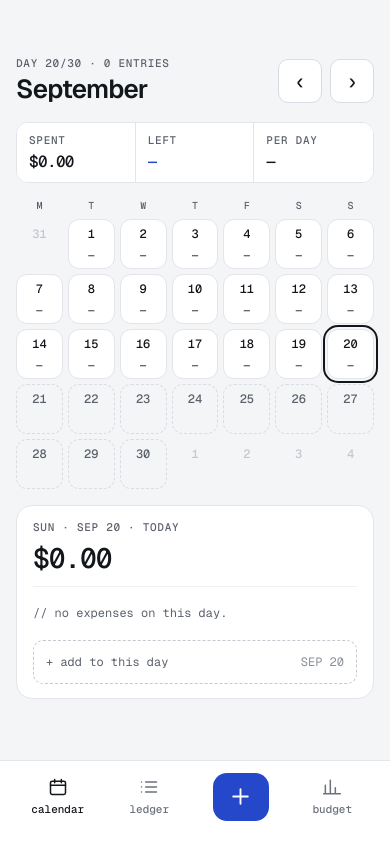
Test: persists the intended date for 12 lunch #food from a different selected day
Click the button named "September 1, 2026, $0.00" at x=91, y=244, box [68,219,115,269]
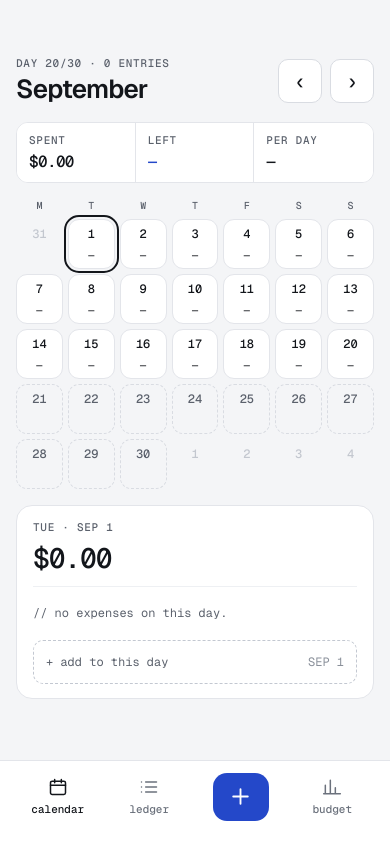
Click the button "+ add to this day SEP 1" at x=107, y=662, box [33,640,357,684]
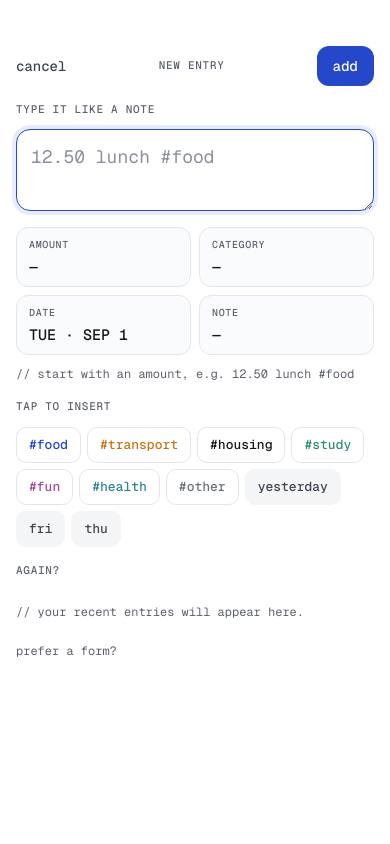
Type "12 lunch #food" into the text box labelled "TYPE IT LIKE A NOTE" at x=195, y=170, box [16,129,374,211]
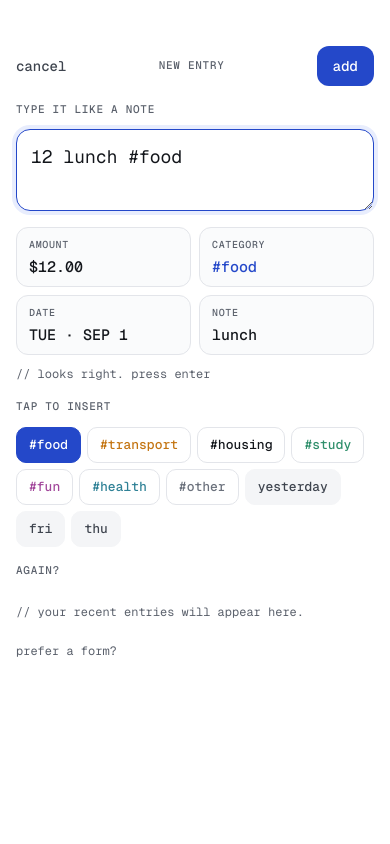
Click the button "add" at x=345, y=66, box [317,46,374,86]
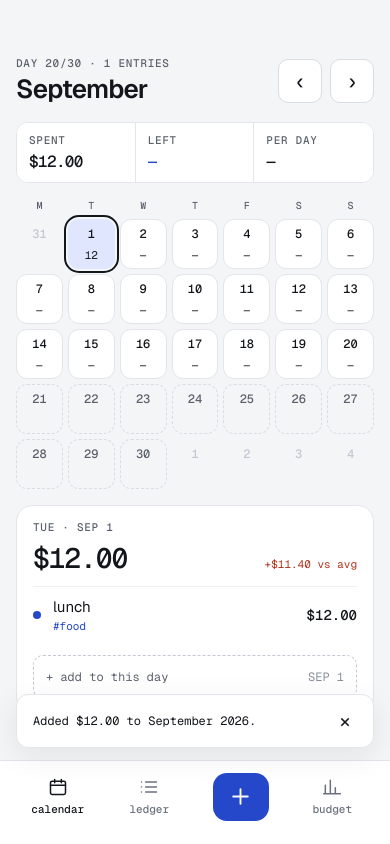
Expected: the text "NEW ENTRY" is gone
